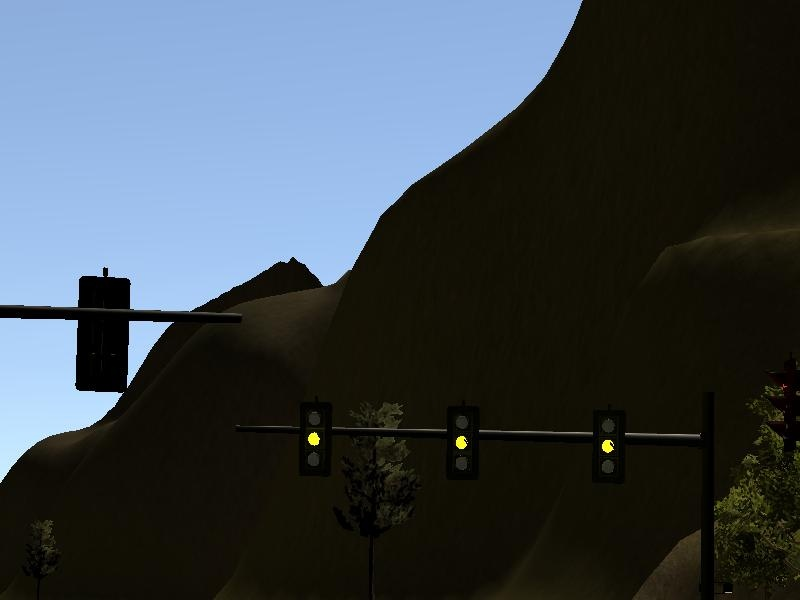yellow: (447, 408, 481, 482), (301, 403, 334, 477), (595, 411, 623, 485)
